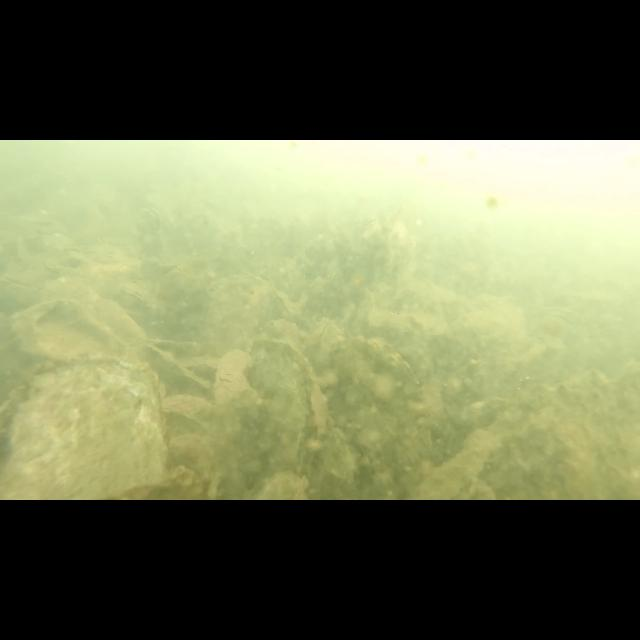Oyster-Closed: (1, 356, 168, 499), (490, 368, 640, 500), (330, 336, 432, 499), (250, 338, 322, 500), (13, 297, 135, 363), (206, 272, 276, 356), (212, 348, 256, 434), (162, 258, 214, 326), (150, 343, 212, 392), (167, 431, 220, 475), (161, 394, 215, 436), (274, 290, 306, 336), (118, 282, 150, 306)
Oyster-Open: (303, 320, 342, 368), (134, 205, 164, 259), (0, 275, 44, 301)
